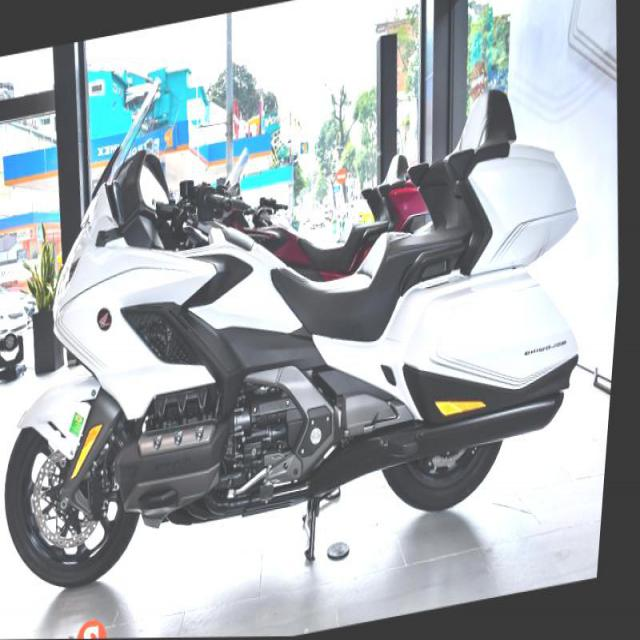Gold Wing: (0, 0, 619, 603)
